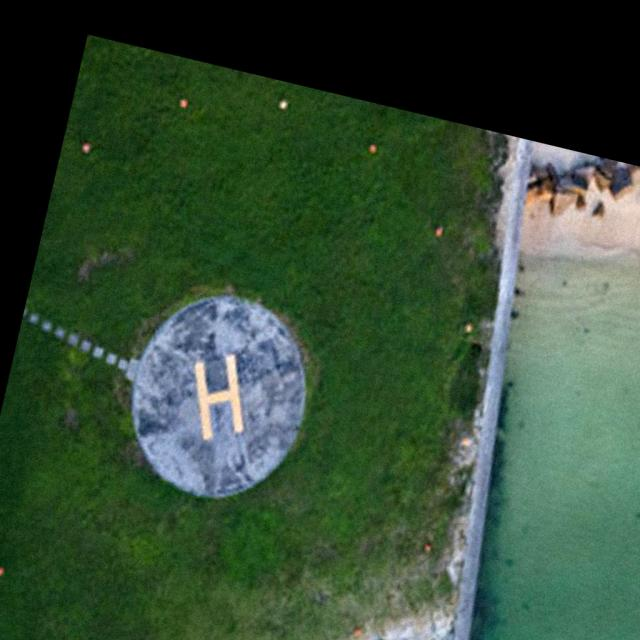helipad: (126, 294, 312, 500)
